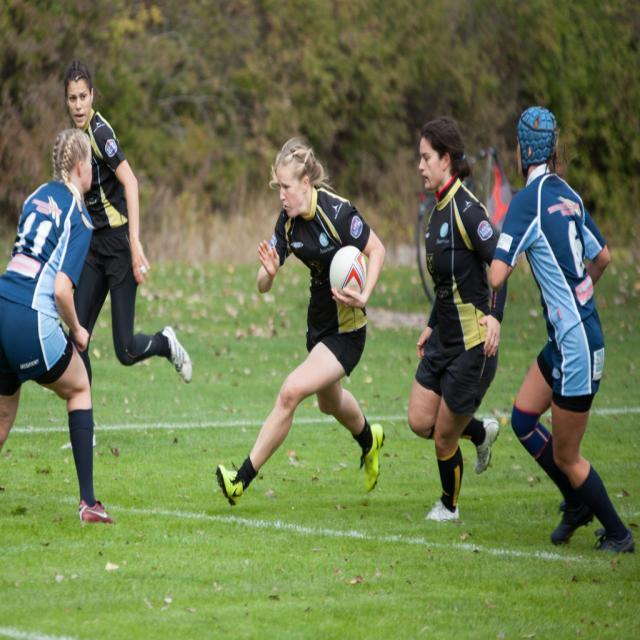football: (314, 236, 382, 320)
